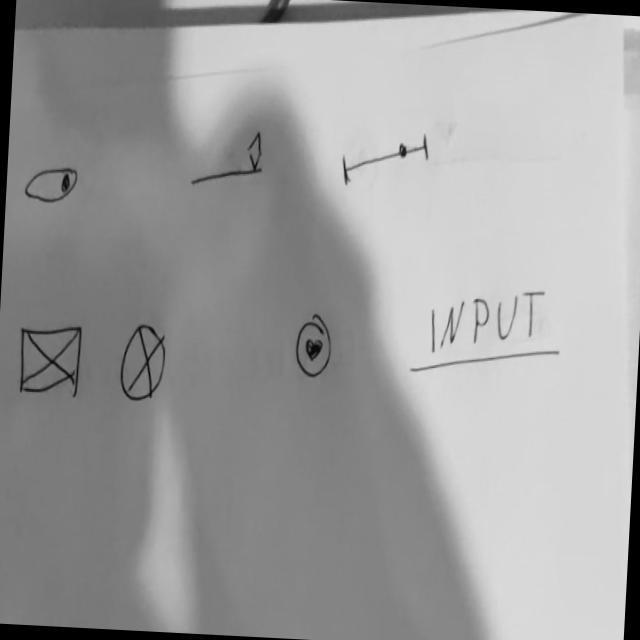icon-button: (293, 310, 336, 386)
image: (17, 322, 85, 399), (120, 323, 171, 405)
input: (407, 278, 568, 385)
number-input: (191, 126, 271, 195)
slider: (339, 128, 436, 193)
toggle: (23, 163, 82, 210)
